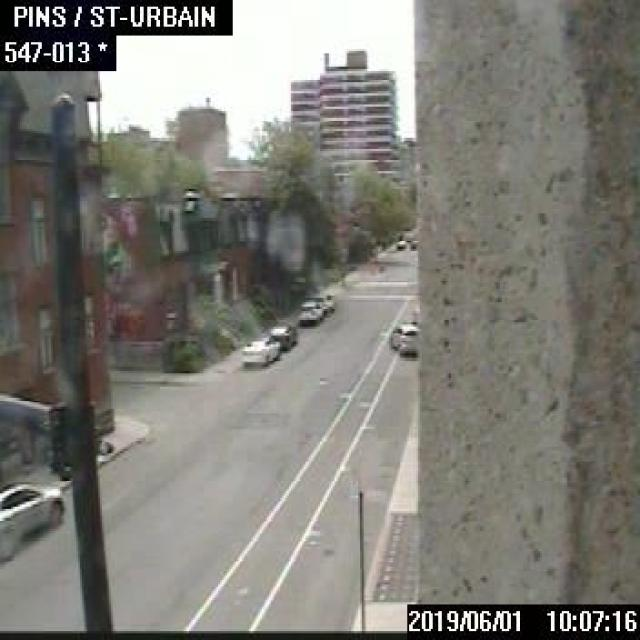vehicle: (0, 481, 64, 563), (240, 333, 280, 367), (388, 321, 419, 355), (268, 322, 294, 349), (300, 294, 326, 314), (298, 300, 321, 322), (315, 290, 334, 311), (394, 236, 406, 248), (408, 237, 418, 247)
